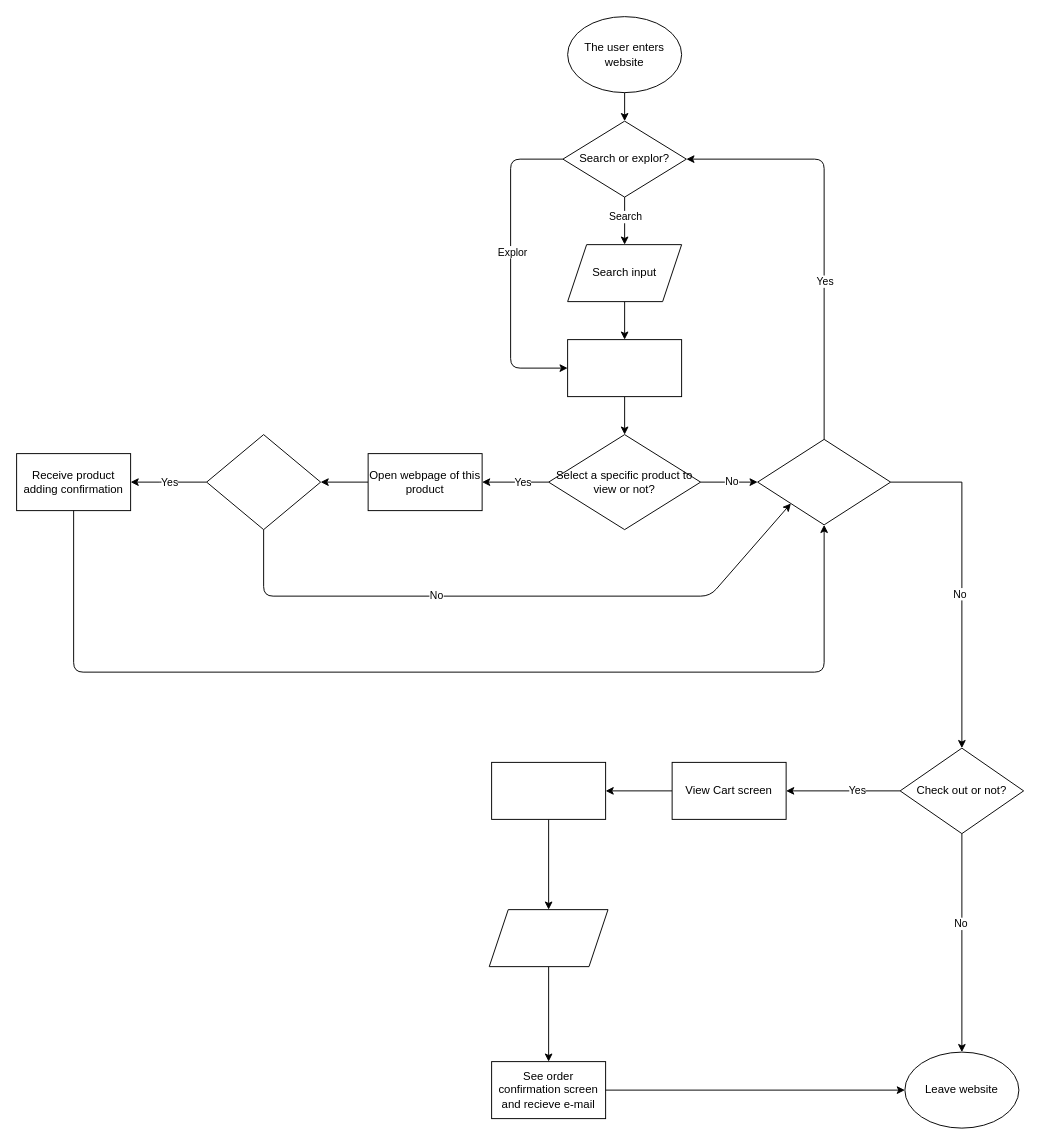
Some shapes in this 1040 by 1145 pixel diagram are drawn without their labels. The shapes that lost their labels are listed below. From the top down, each one's centre as x and y in pixels, then its label:
(624,368): Look over all products
(263,482): Add this product to cart or not?
(824,481): Continue shopping or not?
(548,790): View Payment screen
(548,938): Input the payment infomation
